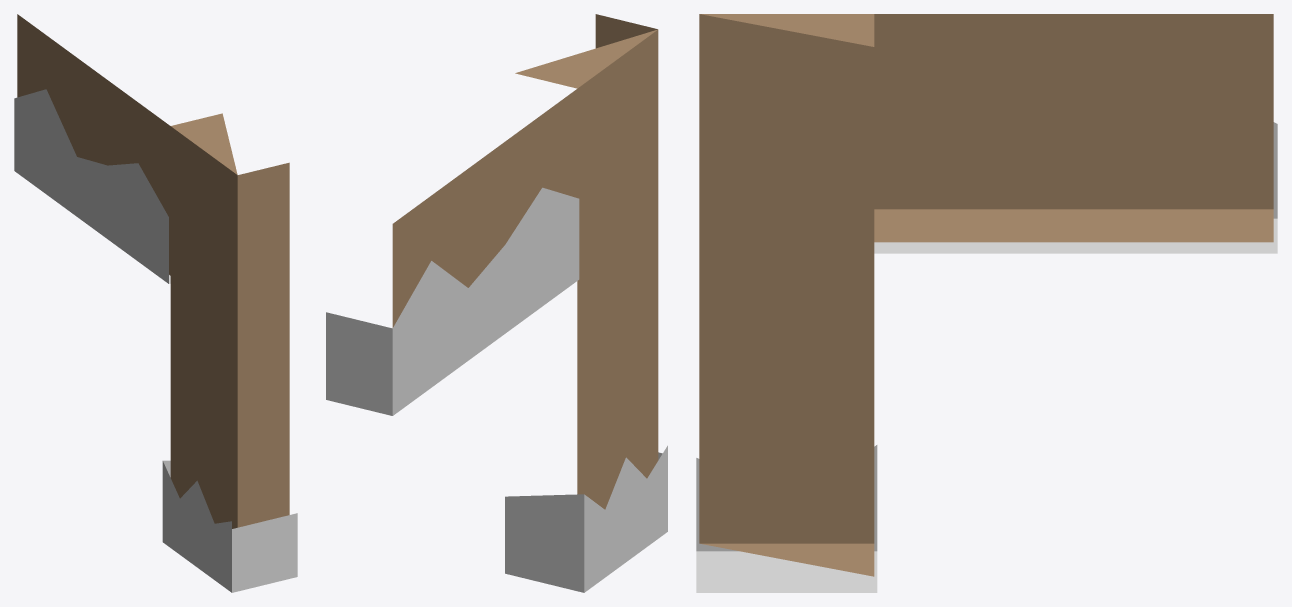
Rendered from Pantalla-1_bloque.fbx.
The picture shows the model from 3 angles, left to right: view 1: azimuth 30°, elevation 25°; view 2: azimuth 150°, elevation 25°; view 3: azimuth 270°, elevation 25°; orthographic projection. The views are drawn at different scales.
Parts seen in each view (by area): view 1: Nivel 1.002; view 2: Nivel 1.002; view 3: Nivel 1.002.
Boxes of the visible parts, x1=… form: Nivel 1.002: x1=14, y1=14, x2=297, y2=592; Nivel 1.002: x1=326, y1=14, x2=667, y2=592; Nivel 1.002: x1=696, y1=14, x2=1277, y2=592.
Bounding box in the file's own units: 220 × 1333 × 1296.
